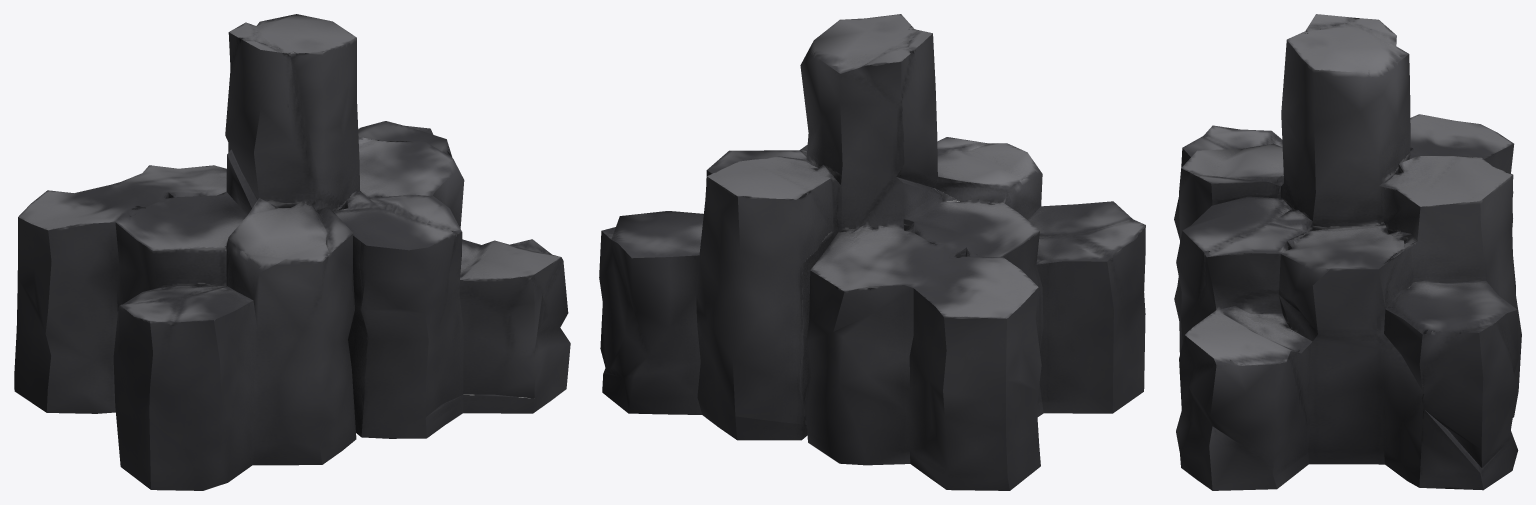
The model's file is basalto.fbx.
3 views of the same model, side by side, from view 1: azimuth 30°, elevation 25°; view 2: azimuth 150°, elevation 25°; view 3: azimuth 270°, elevation 25° (orthographic).
Visible parts, largest first — view 1: basalto; view 2: basalto; view 3: basalto.
Part boxes in pixels (x1,y1,x2,y2): basalto: (14,14,570,490); basalto: (599,14,1145,490); basalto: (1174,14,1521,490).
Bounding box in the file's own units: 2.77 × 2.28 × 2.01.
1 material, 1 textured.
